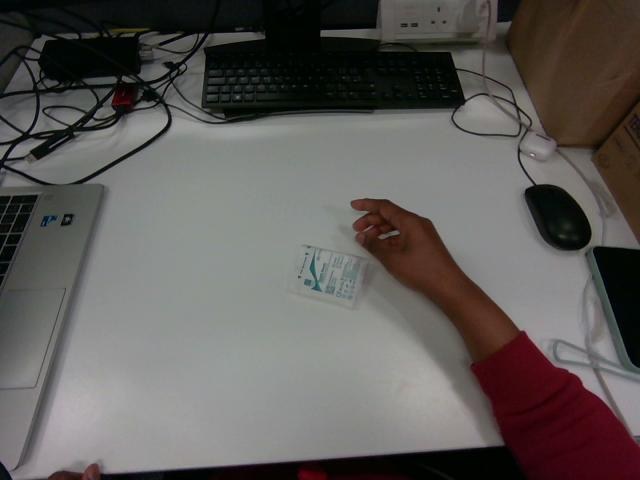gauze: (288, 245, 367, 307)
